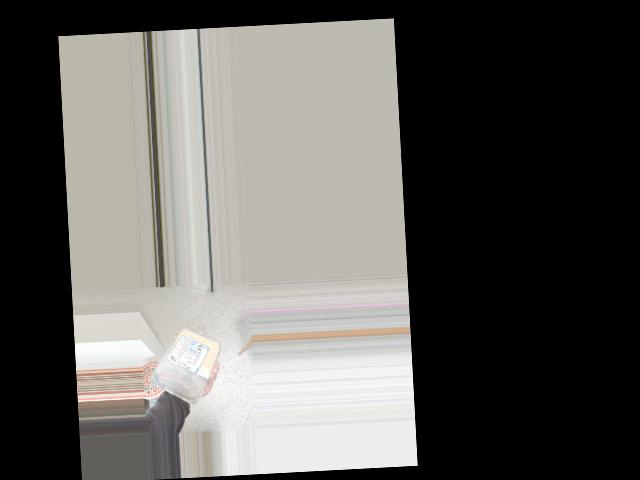cheese: (148, 321, 216, 401)
